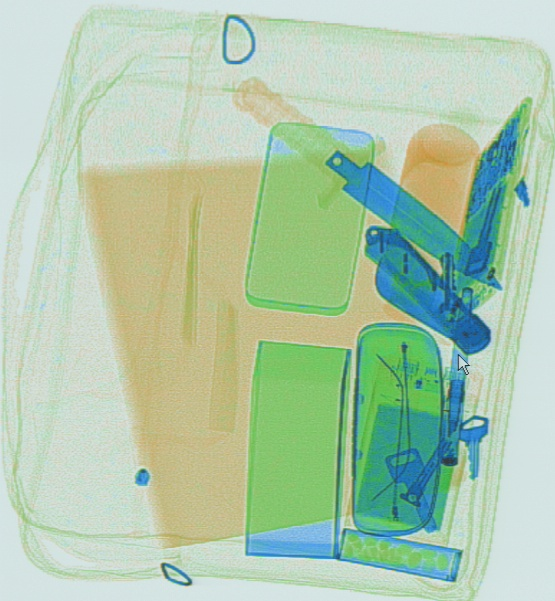knife: (230, 72, 510, 298), (362, 219, 494, 362)
